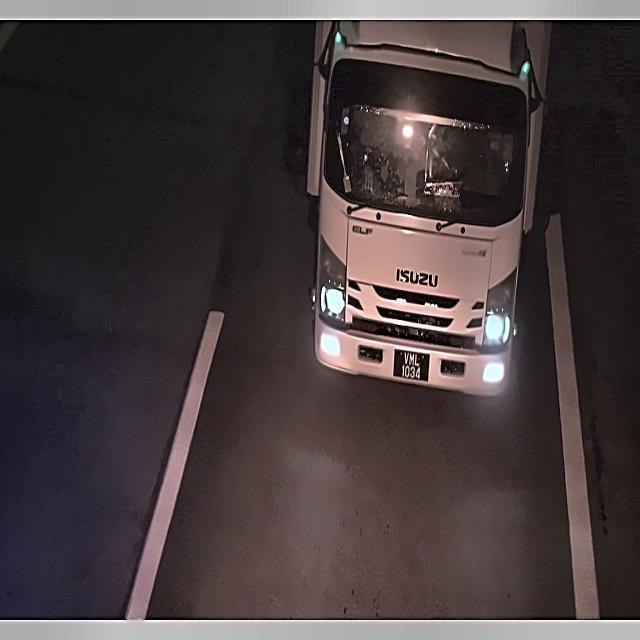car: (393, 346, 427, 385)
